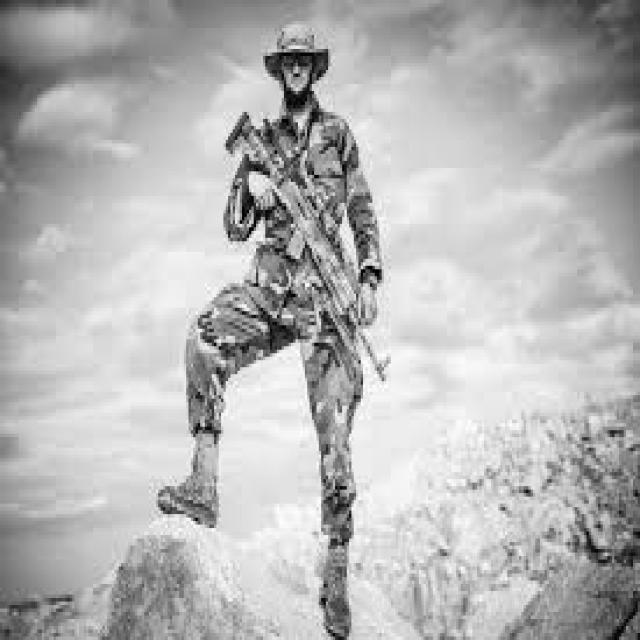stand: (186, 36, 364, 590)
